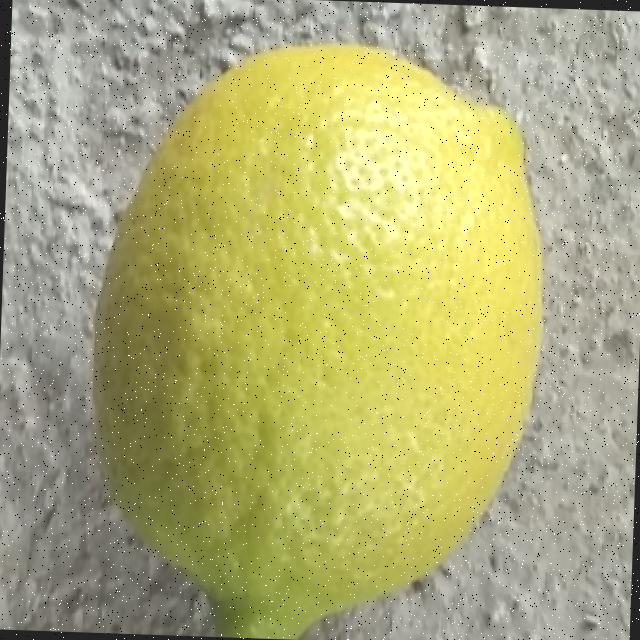Lemon: (76, 33, 551, 640)
